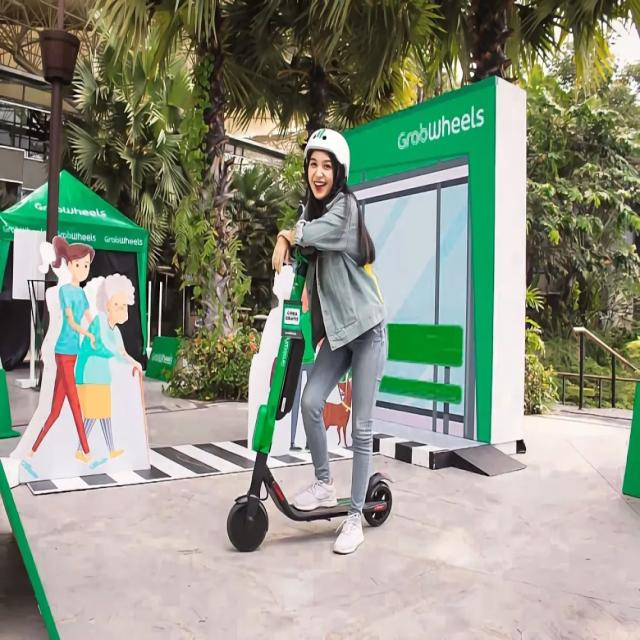helmet: (210, 107, 413, 572)
